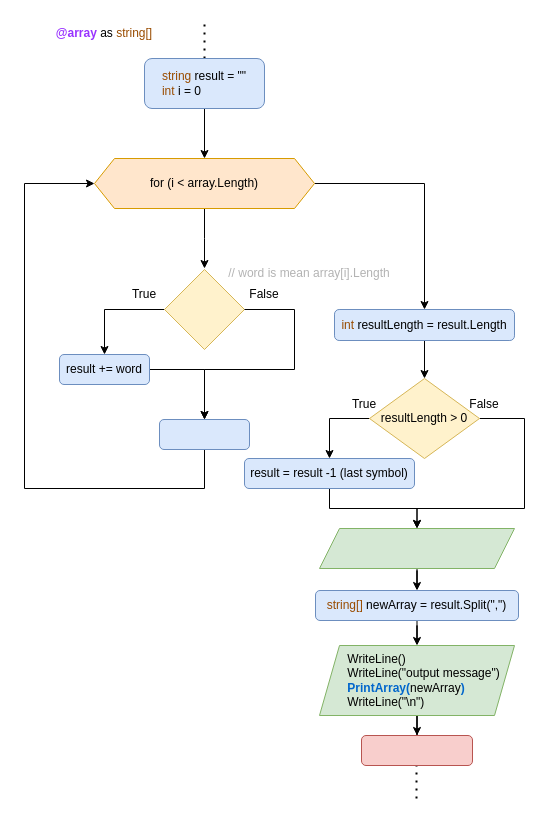
Some shapes in this 550 by 817 pixel diagram are drawn without their labels. The shapes that lost their labels are listed below. From the top down, each one's centre as x and y in pixels, then its label:
point (204, 309): word <= 3
point (204, 434): i++
point (416, 548): WriteLine("input message") PrintArray ( array )
point (416, 750): return newArray
